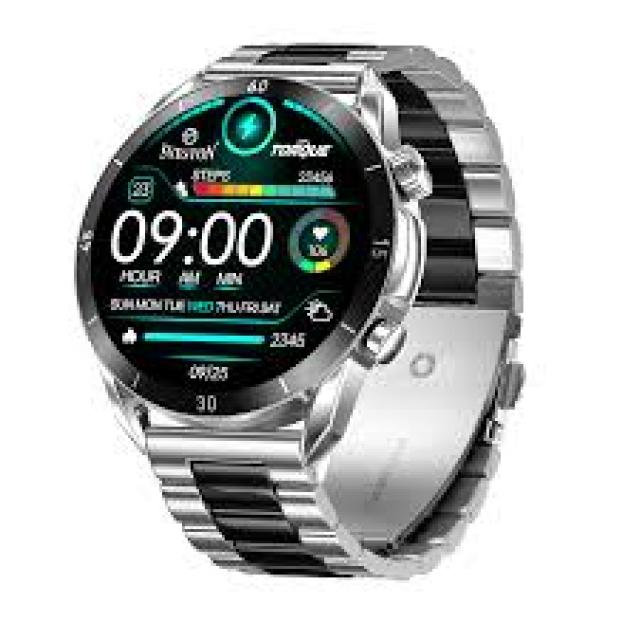objects: (77, 46, 522, 582)
